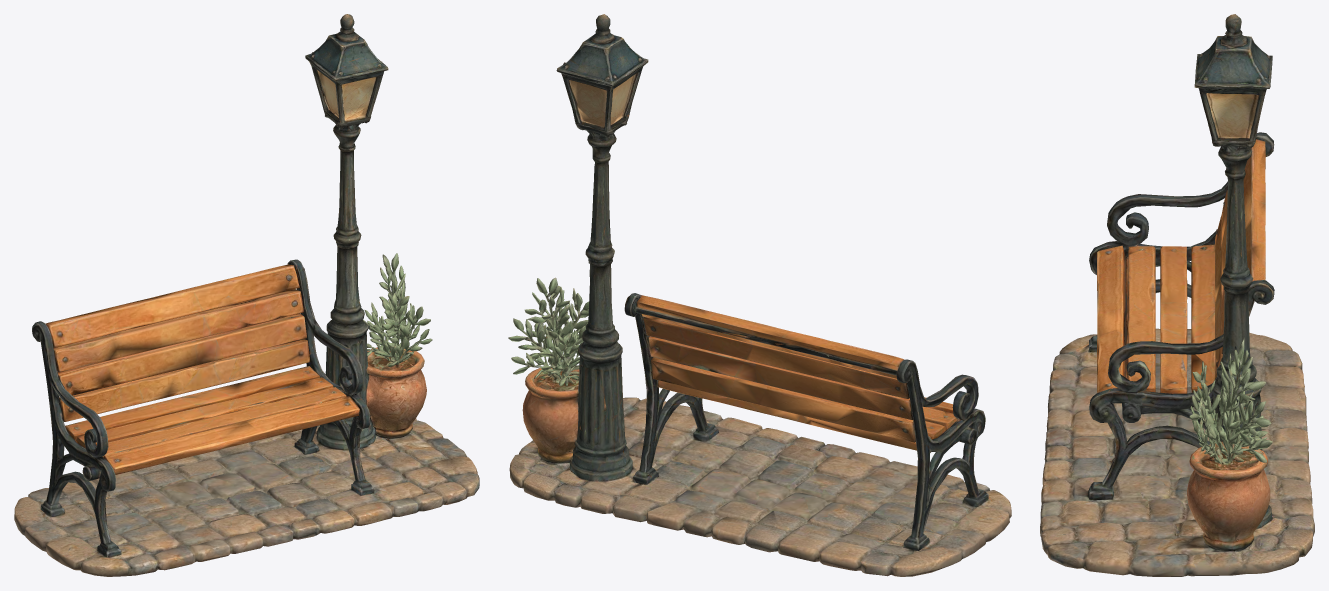
Rendered from m_tb_bench.glb.
3 renders of one model, left to right at view 1: azimuth 30°, elevation 25°; view 2: azimuth 150°, elevation 25°; view 3: azimuth 270°, elevation 25°, orthographic. The views are drawn at different scales.
Bounding box in the file's own units: 0.9992 × 1.01 × 0.4874.
Materials: 1 (1 with a texture image).
